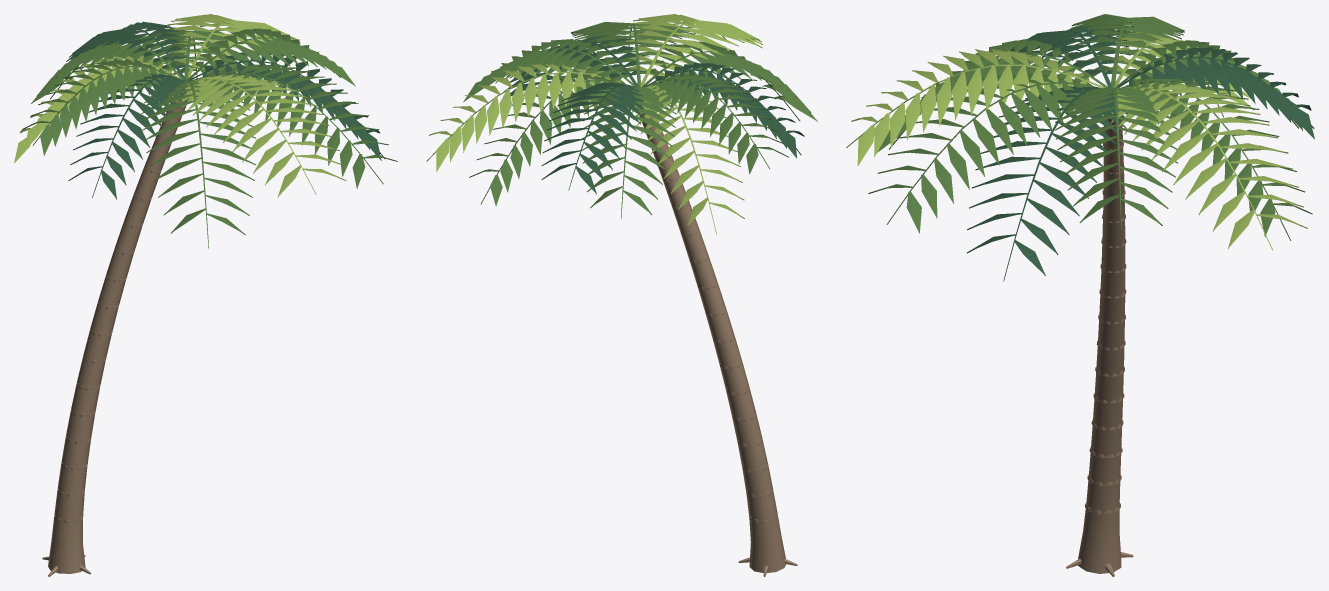
The model's file is tree_coastal_palm_b.glb.
3 renders of one model, left to right at view 1: azimuth 30°, elevation 25°; view 2: azimuth 150°, elevation 25°; view 3: azimuth 270°, elevation 25°, orthographic. The views are drawn at different scales.
Visible parts, largest first — view 1: tree_coastal_palm_b_LOD0; view 2: tree_coastal_palm_b_LOD0; view 3: tree_coastal_palm_b_LOD0.
Boxes of the visible parts, x1,y1,x2,y2 form: tree_coastal_palm_b_LOD0: (14,14,397,576); tree_coastal_palm_b_LOD0: (426,14,817,576); tree_coastal_palm_b_LOD0: (846,14,1314,576).
Size of what is drawn, in the model's own units: 6.73 by 9.75 by 7.16.
